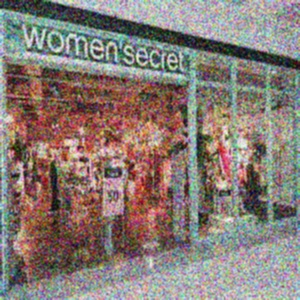women_secret: (188, 12, 204, 35)
